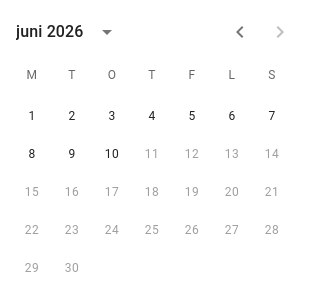
HabitCalendar › navigates back a month when 'Forrige måned' is clicked
The width and height of the screenshot is (320, 289).
Click the button named "Forrige måned" at (240, 32), box [220,12,260,52]
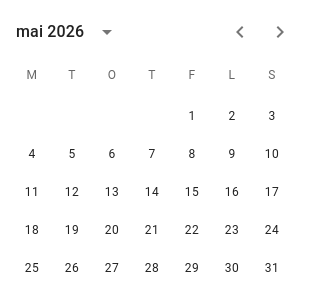
Check: the text "mai 2026" is shown, box [16,20,84,44]
